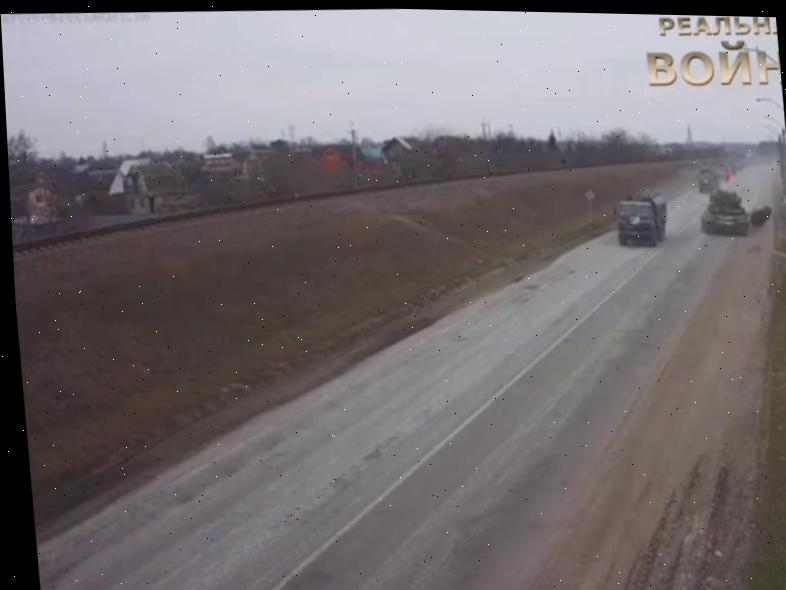tank: (698, 187, 750, 236)
truck: (613, 187, 671, 248), (696, 170, 721, 195)
